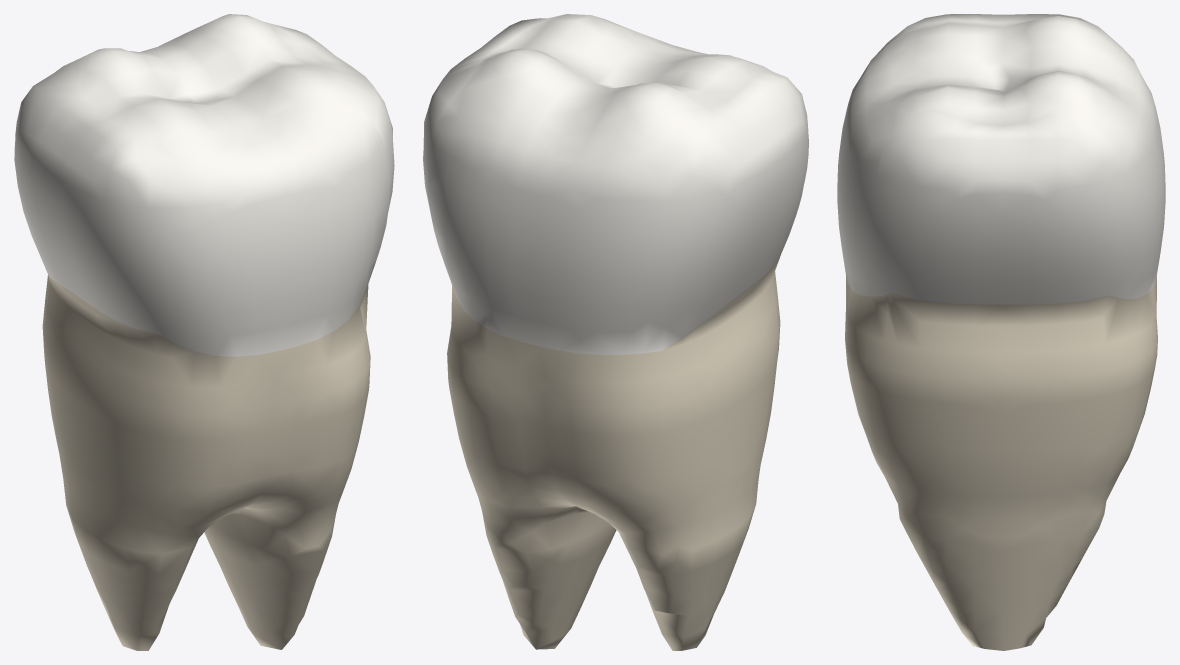
3 views of the same model, side by side, from view 1: azimuth 30°, elevation 25°; view 2: azimuth 150°, elevation 25°; view 3: azimuth 270°, elevation 25° (orthographic). The views are drawn at different scales.
Visible parts, largest first — view 1: root, V, D, O, M; view 2: root, L, D, O, M, V; view 3: root, M, O, L, V, D.
Part boxes in pixels (bbox=[...]): root: bbox=[42, 275, 370, 650]; V: bbox=[146, 86, 389, 356]; D: bbox=[14, 61, 155, 333]; O: bbox=[74, 14, 338, 153]; M: bbox=[270, 23, 394, 229]; root: bbox=[447, 255, 780, 650]; L: bbox=[428, 75, 672, 354]; D: bbox=[657, 65, 808, 350]; O: bbox=[478, 14, 770, 117]; M: bbox=[423, 18, 547, 214]; V: bbox=[593, 15, 771, 71]; root: bbox=[845, 276, 1157, 650]; M: bbox=[875, 105, 1126, 304]; O: bbox=[906, 16, 1091, 125]; L: bbox=[1085, 23, 1165, 299]; V: bbox=[837, 30, 919, 296]; D: bbox=[888, 14, 1115, 42].
Size of the model in its own units: 9.99 by 18.44 by 9.5.
